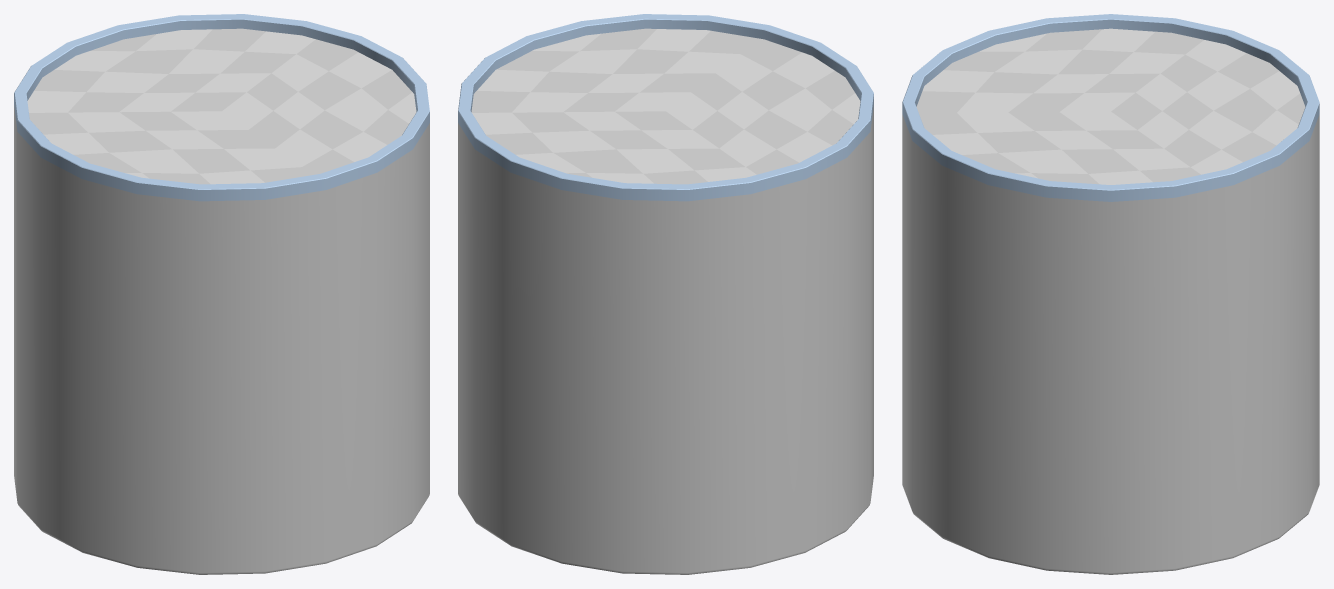
The model's file is PlatformDisc.fbx.
3 views of the same model, side by side, from view 1: azimuth 30°, elevation 25°; view 2: azimuth 150°, elevation 25°; view 3: azimuth 270°, elevation 25° (orthographic).
Parts seen in each view (by area): view 1: PlatformDisc; view 2: PlatformDisc; view 3: PlatformDisc.
Part boxes in pixels (x1,y1,x2,y2): PlatformDisc: [14, 14, 429, 574]; PlatformDisc: [458, 14, 873, 574]; PlatformDisc: [902, 14, 1319, 574].
Size of the model in its own units: 23.8 by 24.3 by 23.8.
